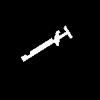double_crochet: (21, 26, 71, 60)
